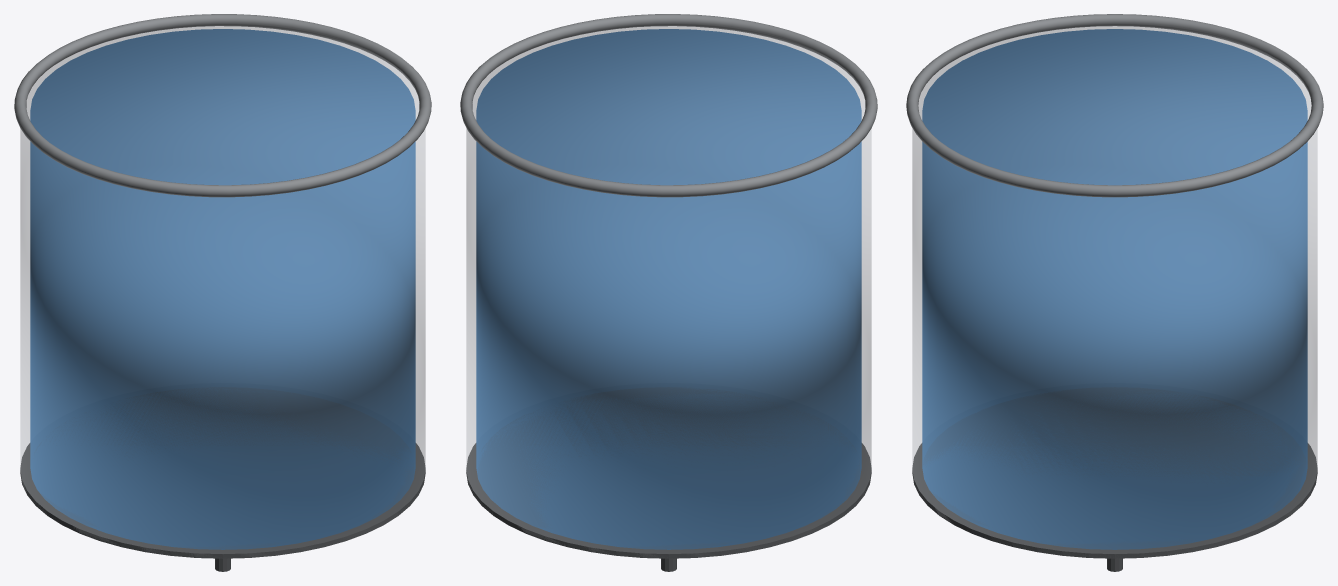
Rendered from tank.glb.
3 renders of one model, left to right at view 1: azimuth 30°, elevation 25°; view 2: azimuth 150°, elevation 25°; view 3: azimuth 270°, elevation 25°, orthographic.
Visible parts, largest first — view 1: Shell, Fluid, Rim, Base; view 2: Shell, Fluid, Rim, Base; view 3: Shell, Fluid, Rim, Base.
Part boxes in pixels (x1,y1,x2,y2): Shell: [20, 23, 425, 556]; Fluid: [30, 29, 415, 549]; Rim: [14, 14, 431, 197]; Base: [20, 443, 425, 558]; Shell: [466, 23, 871, 556]; Fluid: [476, 29, 861, 549]; Rim: [460, 14, 877, 197]; Base: [466, 443, 871, 558]; Shell: [912, 23, 1317, 553]; Fluid: [922, 29, 1307, 549]; Rim: [906, 14, 1323, 197]; Base: [912, 443, 1317, 558].
Bounding box in the file's own units: 0.412 × 0.426 × 0.412.
